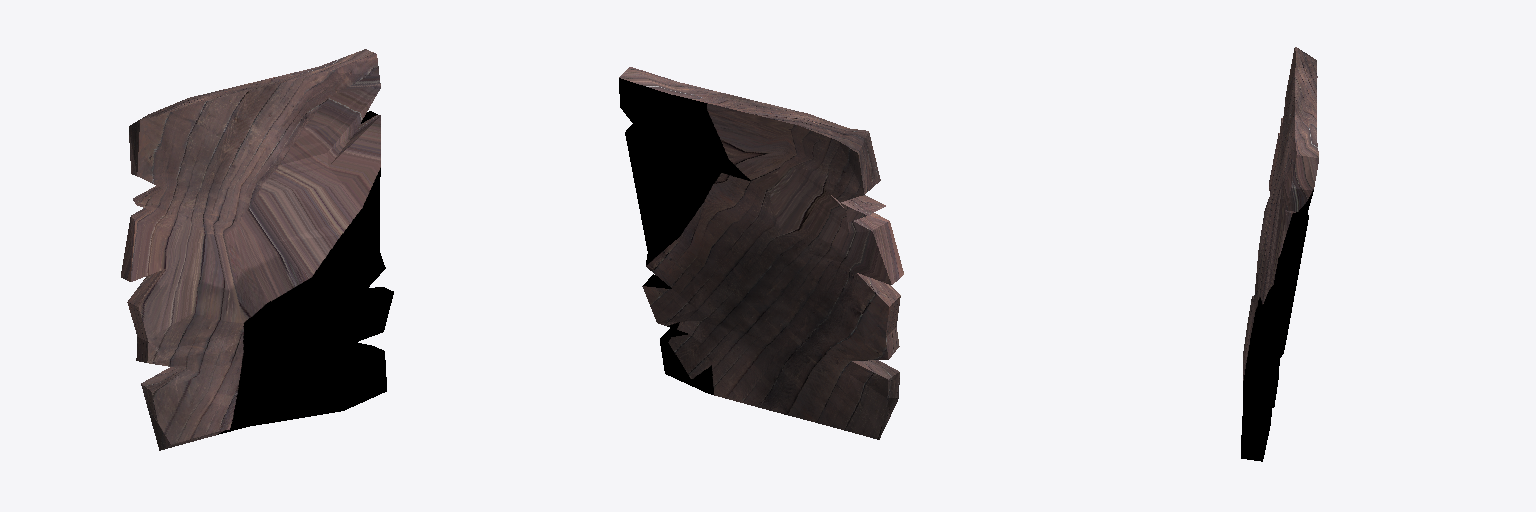
The picture shows the model from 3 angles: view 1: azimuth 30°, elevation 25°; view 2: azimuth 150°, elevation 25°; view 3: azimuth 270°, elevation 25°; orthographic projection.
Bounding box in the file's own units: 1.77 × 2.12 × 0.4624.
1 materials, 1 textured.